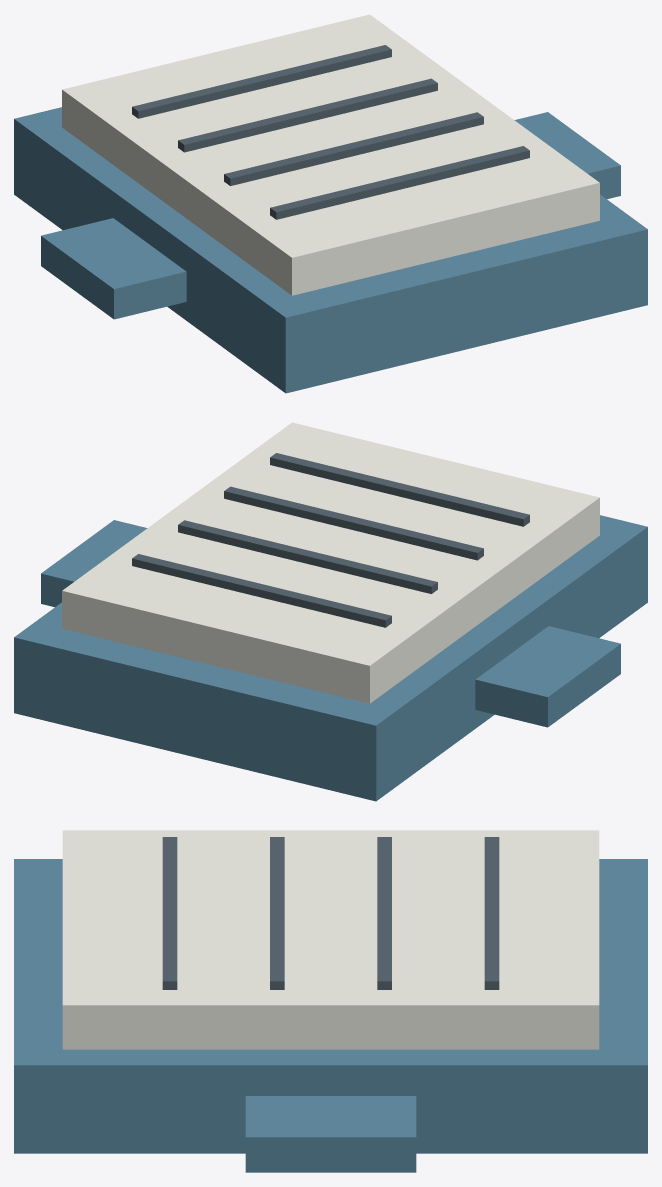
File: american-football-stadium-kit-wrist-playbook-8b50df17__22373.glb
3 renders of one model, top to bottom at view 1: azimuth 30°, elevation 25°; view 2: azimuth 150°, elevation 25°; view 3: azimuth 270°, elevation 25°, orthographic. The views are drawn at different scales.
Visible parts, largest first — view 1: wrist-playbook; view 2: wrist-playbook; view 3: wrist-playbook.
Part boxes in pixels (x1,y1,x2,y2): wrist-playbook: [14, 14, 647, 393]; wrist-playbook: [14, 422, 647, 801]; wrist-playbook: [14, 830, 647, 1172].
Bounding box in the file's own units: 0.14 × 0.032 × 0.13.
